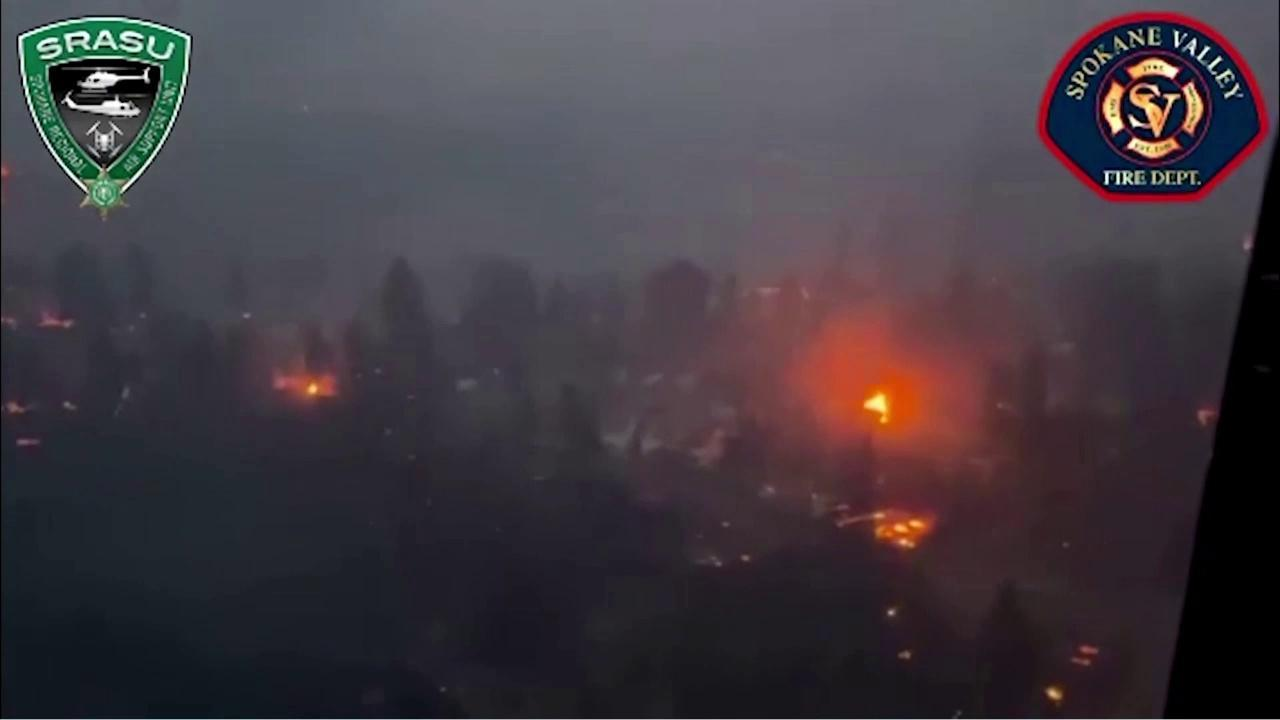fire: (833, 508, 937, 550), (265, 359, 345, 400), (858, 386, 897, 427), (35, 310, 76, 331), (1070, 641, 1101, 667), (3, 398, 35, 418), (1191, 405, 1220, 427), (1043, 681, 1066, 703), (12, 436, 44, 448), (895, 648, 914, 660), (0, 162, 9, 182), (887, 607, 897, 619)
smoke: (2, 0, 1279, 720)
